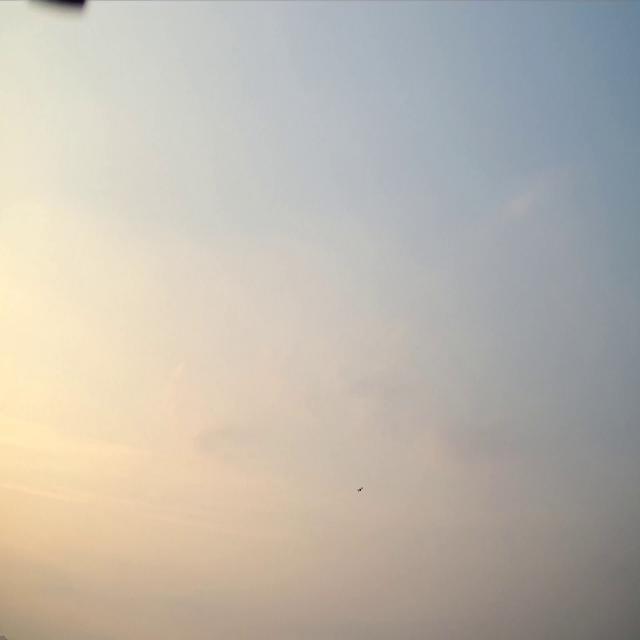UAV: (358, 486, 363, 492)
